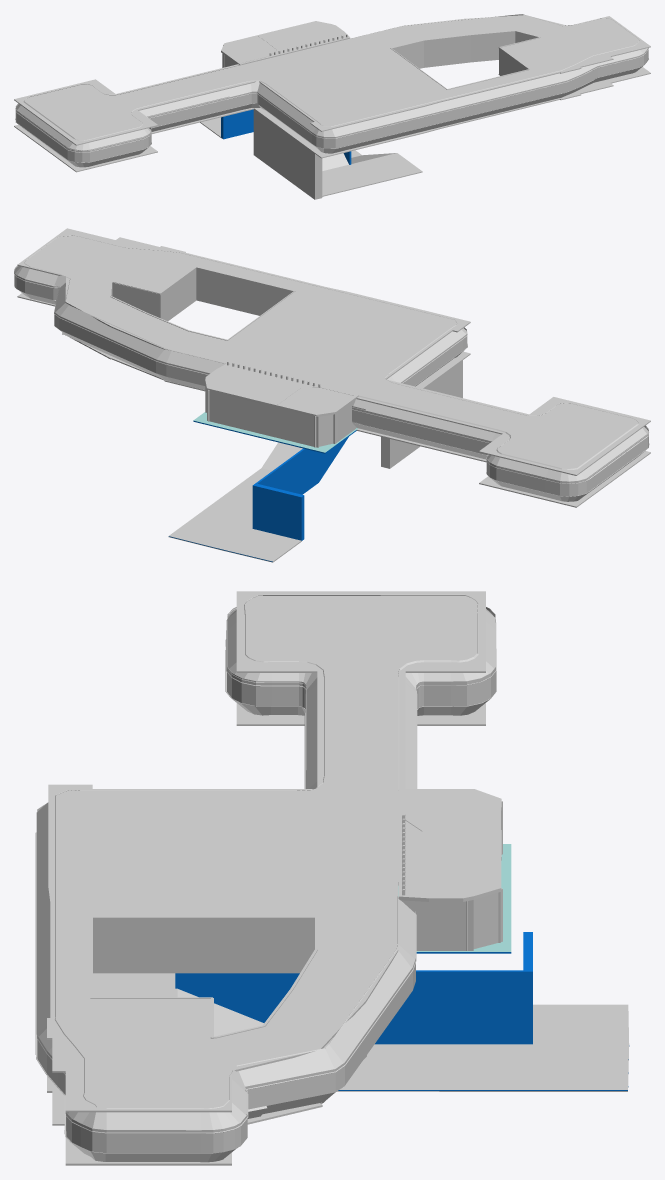
Rendered from Chapter1-1MeshV2.fbx.
The picture shows the model from 3 angles, top to bottom: view 1: azimuth 30°, elevation 25°; view 2: azimuth 150°, elevation 25°; view 3: azimuth 270°, elevation 25°; orthographic projection. The views are drawn at different scales.
Visible parts, largest first — view 1: Ceiling, Plane.006, Plane.008, Plane.002, Cube.011, Cube.006, Plane.001, Plane.007, Plane.004, Cube.007; view 2: Ceiling, Plane.002, Plane.008, Cube.011, Plane.006, Cube.007, Plane.001, Plane.004, Plane.005, Cube.004, Cube.006, Plane.003 (+4 smaller); view 3: Ceiling, Plane.002, Plane.008, Cube.007, Cube.011, Plane.006, Plane.001, Plane.004, Plane.007, Cube.003, Plane.005, Cube.002 (+1 smaller).
Boxes of the visible parts, x1,y1,x2,y2 form: Ceiling: (14,15,650,145); Plane.006: (17,48,648,162); Plane.008: (17,14,648,152); Plane.002: (14,59,650,196); Cube.011: (390,30,540,89); Cube.006: (253,108,322,199); Plane.001: (221,21,350,65); Plane.007: (19,58,648,167); Plane.004: (15,64,240,148); Cube.007: (221,109,351,164); Ceiling: (17,228,650,475); Plane.002: (17,293,650,562); Plane.008: (14,235,649,480); Cube.011: (110,266,295,340); Plane.006: (14,265,648,491); Cube.007: (252,437,348,540); Plane.001: (205,363,358,416); Plane.004: (352,395,646,483); Plane.005: (352,406,587,496); Cube.004: (207,390,318,447); Cube.006: (381,359,462,468); Plane.003: (352,422,646,501); Ceiling: (47,591,485,1112); Plane.002: (47,703,629,1165); Plane.008: (36,595,460,1133); Cube.007: (175,932,532,1044); Cube.011: (90,917,317,1038); Plane.006: (37,607,415,1153); Plane.001: (398,789,501,901); Plane.004: (263,594,496,790); Plane.007: (35,639,334,1162); Cube.003: (398,897,473,950); Plane.005: (416,607,495,788); Cube.002: (466,888,502,950).
Bounding box in the file's own units: 9285 × 1707 × 4404.
